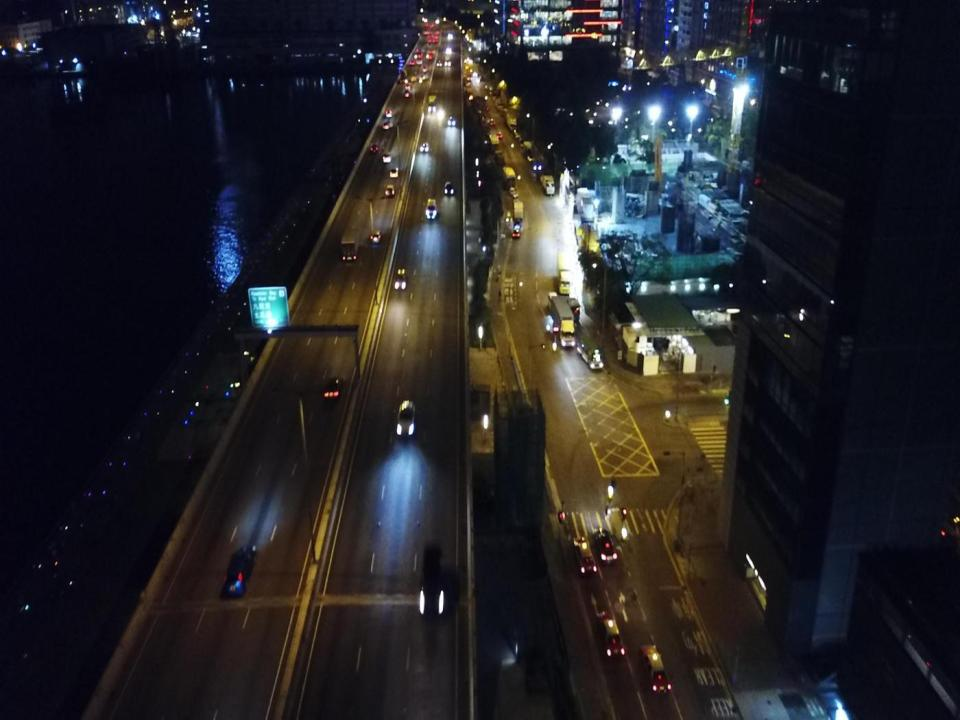bus: (576, 335, 603, 369), (340, 226, 360, 261)
car: (222, 542, 257, 596), (420, 544, 444, 616), (640, 644, 672, 694), (598, 610, 625, 659), (574, 536, 597, 576), (595, 532, 617, 567), (396, 399, 415, 436), (324, 376, 344, 398), (395, 268, 407, 290), (370, 229, 382, 244), (385, 184, 395, 197), (445, 181, 453, 195), (447, 116, 456, 126), (420, 142, 428, 152), (390, 167, 398, 177), (512, 227, 520, 236), (383, 121, 393, 128), (533, 163, 541, 171), (371, 144, 378, 152), (526, 155, 534, 162), (496, 130, 502, 139), (386, 106, 391, 116), (436, 59, 442, 67), (405, 90, 410, 97), (405, 84, 411, 89), (490, 119, 495, 124), (446, 47, 450, 53), (448, 34, 452, 39)
truck: (550, 296, 575, 347), (556, 251, 572, 294), (567, 296, 580, 323), (503, 166, 515, 190), (542, 175, 554, 195), (513, 198, 523, 220), (489, 134, 500, 154), (428, 95, 437, 112), (444, 56, 452, 66)
van: (426, 199, 437, 219), (548, 292, 559, 312), (383, 152, 392, 162)
